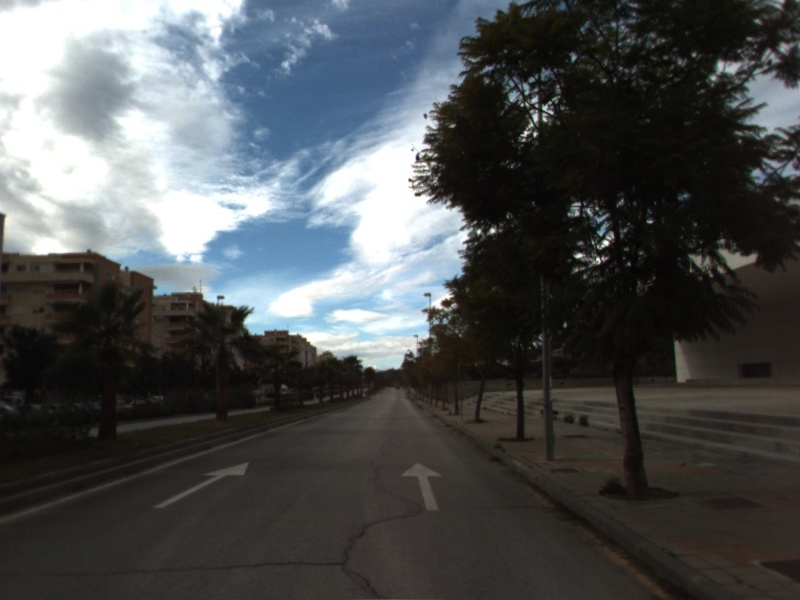STRAIGHT: (151, 460, 251, 510), (399, 460, 445, 512)
